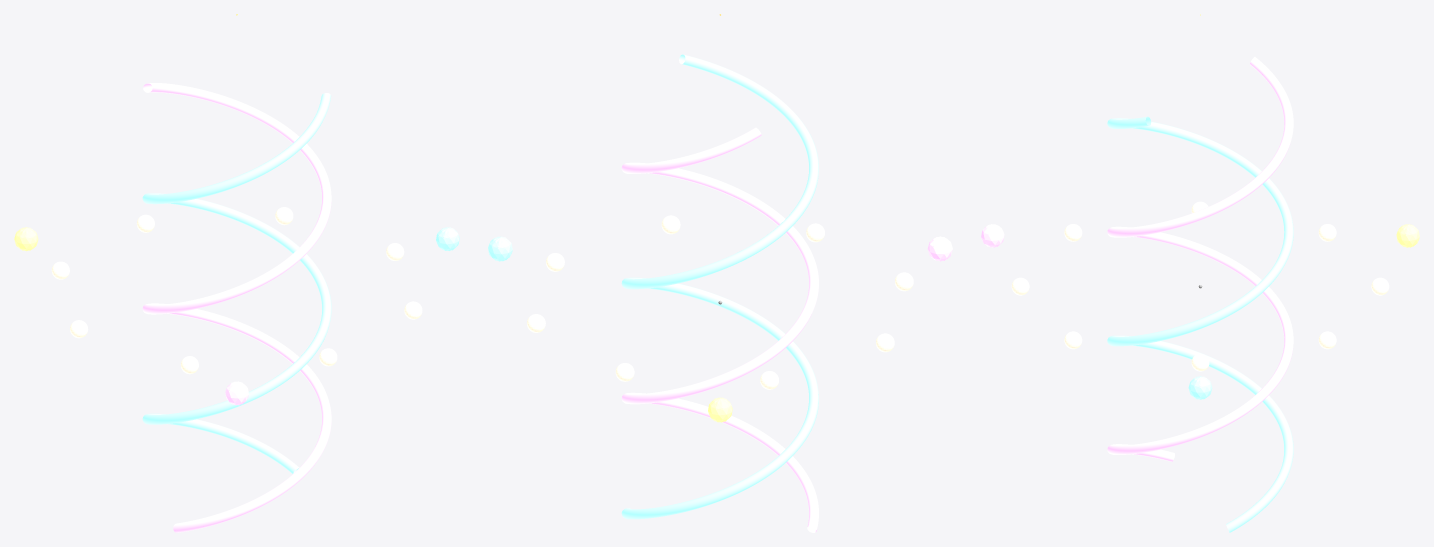
The model's file is claudedndistrand.glb.
3 views of the same model, side by side, from view 1: azimuth 30°, elevation 25°; view 2: azimuth 150°, elevation 25°; view 3: azimuth 270°, elevation 25° (orthographic). The views are drawn at different scales.
Parts seen in each view (by area): view 1: DNAStrand_1, DNAStrand_0; view 2: DNAStrand_0, DNAStrand_1; view 3: DNAStrand_1, DNAStrand_0.
Part boxes in pixels (bbox=[...]): DNAStrand_1: bbox=[142, 83, 331, 532]; DNAStrand_0: bbox=[142, 93, 331, 473]; DNAStrand_0: bbox=[621, 54, 818, 519]; DNAStrand_1: bbox=[621, 127, 818, 532]; DNAStrand_1: bbox=[1107, 57, 1293, 461]; DNAStrand_0: bbox=[1107, 116, 1293, 532].
Size of what is drawn, in the model's own units: 7.34 by 8.89 by 7.32.
